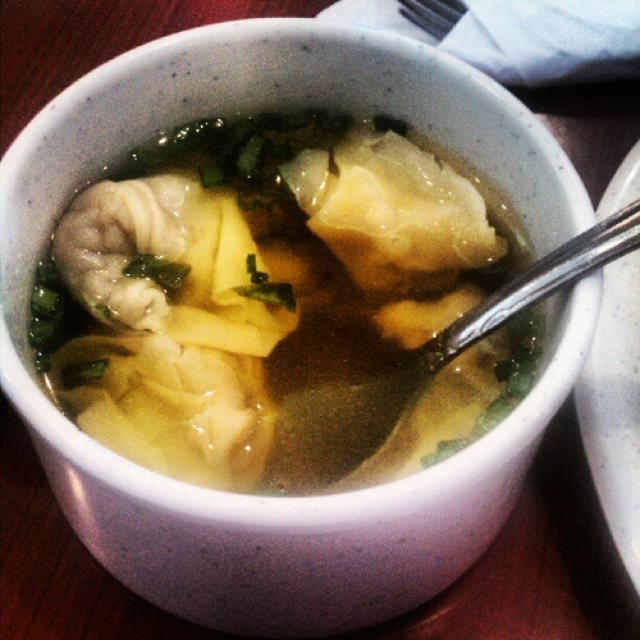汤锅炖物: (9, 26, 566, 596)
